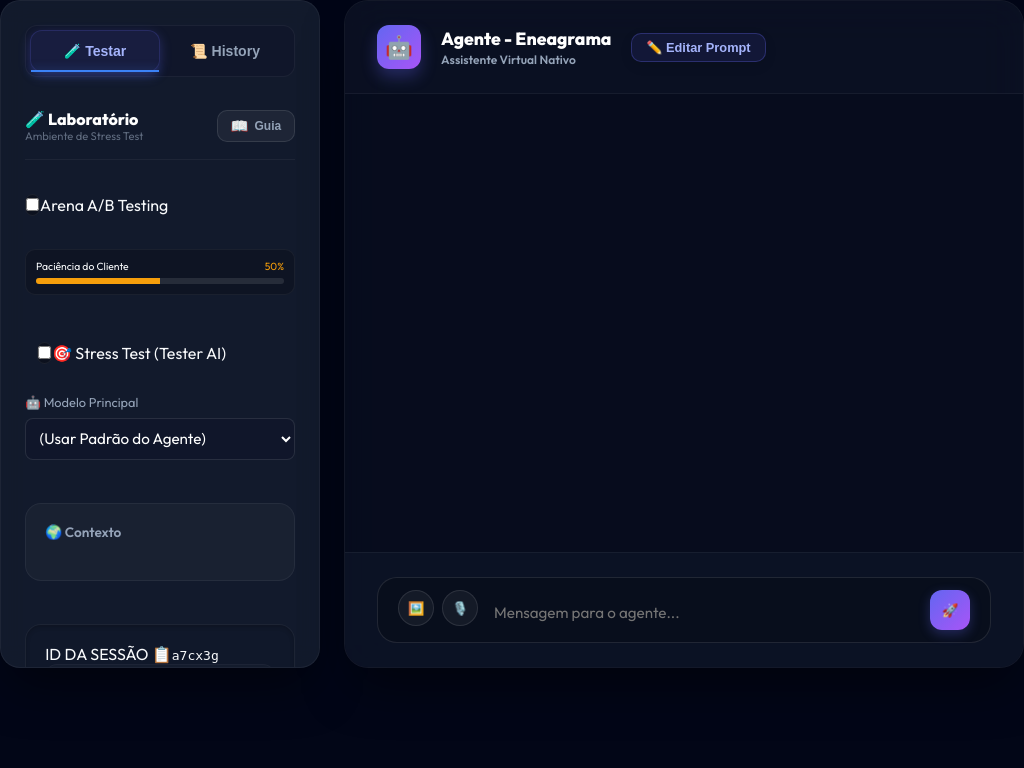
Scenario: ChatPlayground Component › should show error if execute fails
The width and height of the screenshot is (1024, 768).
Type "Erro!" into the text box with placeholder "Mensagem para o agente...".
click(704, 612); type("Erro!")  # box left=494, top=595, right=914, bottom=630
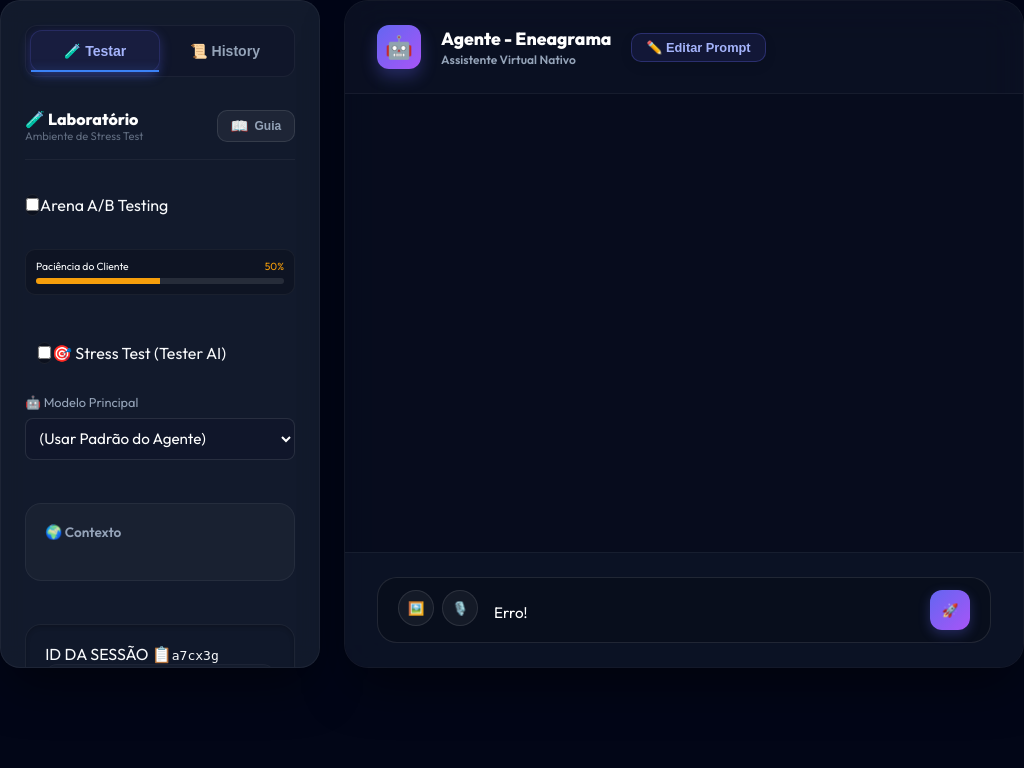
Click the submit button.
click(950, 610)  # box left=930, top=590, right=970, bottom=630
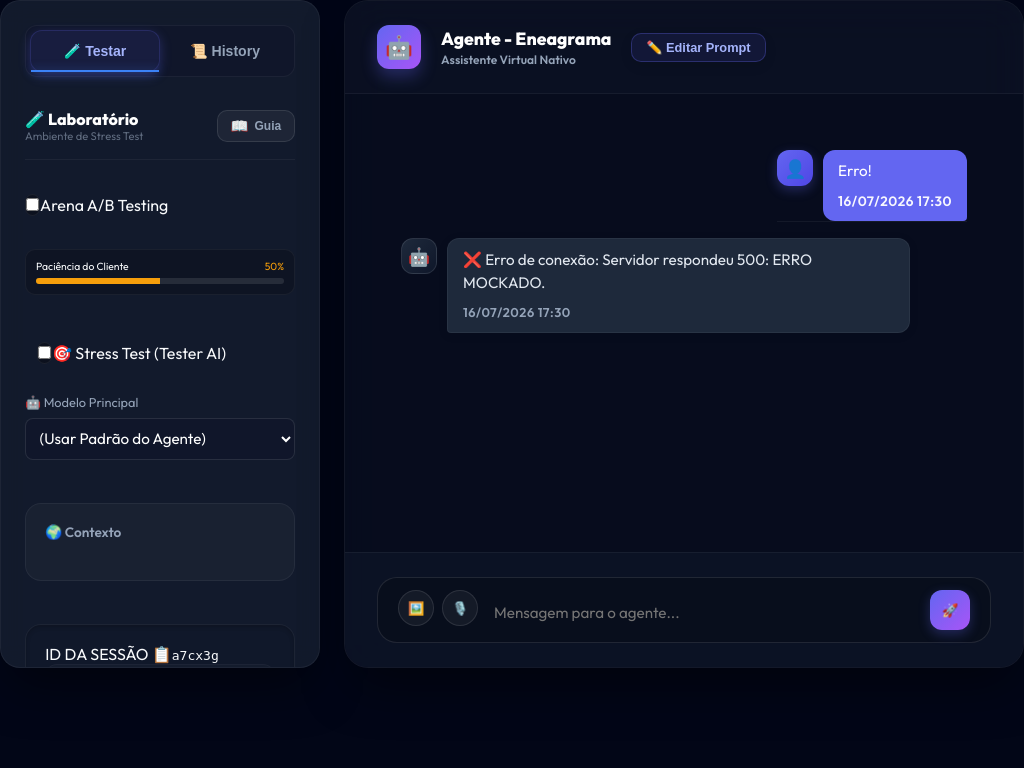
expect the text "❌ Erro de conexão: Servidor respondeu 500: ERRO MOCKADO." is shown: met, box left=463, top=250, right=815, bottom=292
